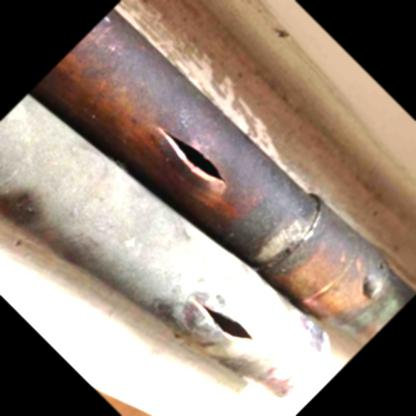burst: (154, 126, 233, 183), (193, 303, 270, 342)
